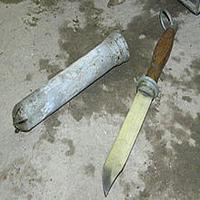knife: (97, 12, 176, 197)
